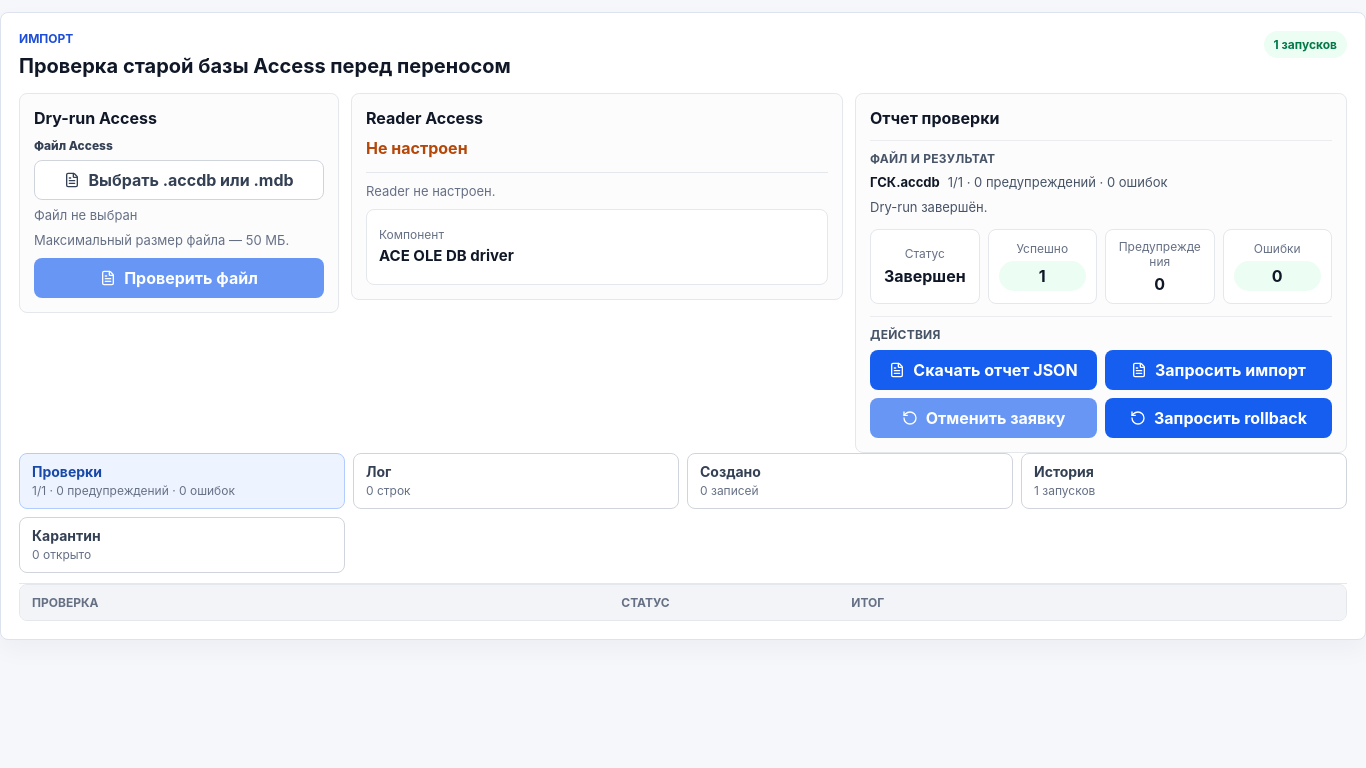
Test case: ImportPanel server failures › shows an apply failure inside the dialog, preserves input and allows retry
Click the button with aria-label "Запросить фактический импорт ГСК.accdb" at (1218, 370), box top-left (1105, 350), bottom-right (1332, 390)
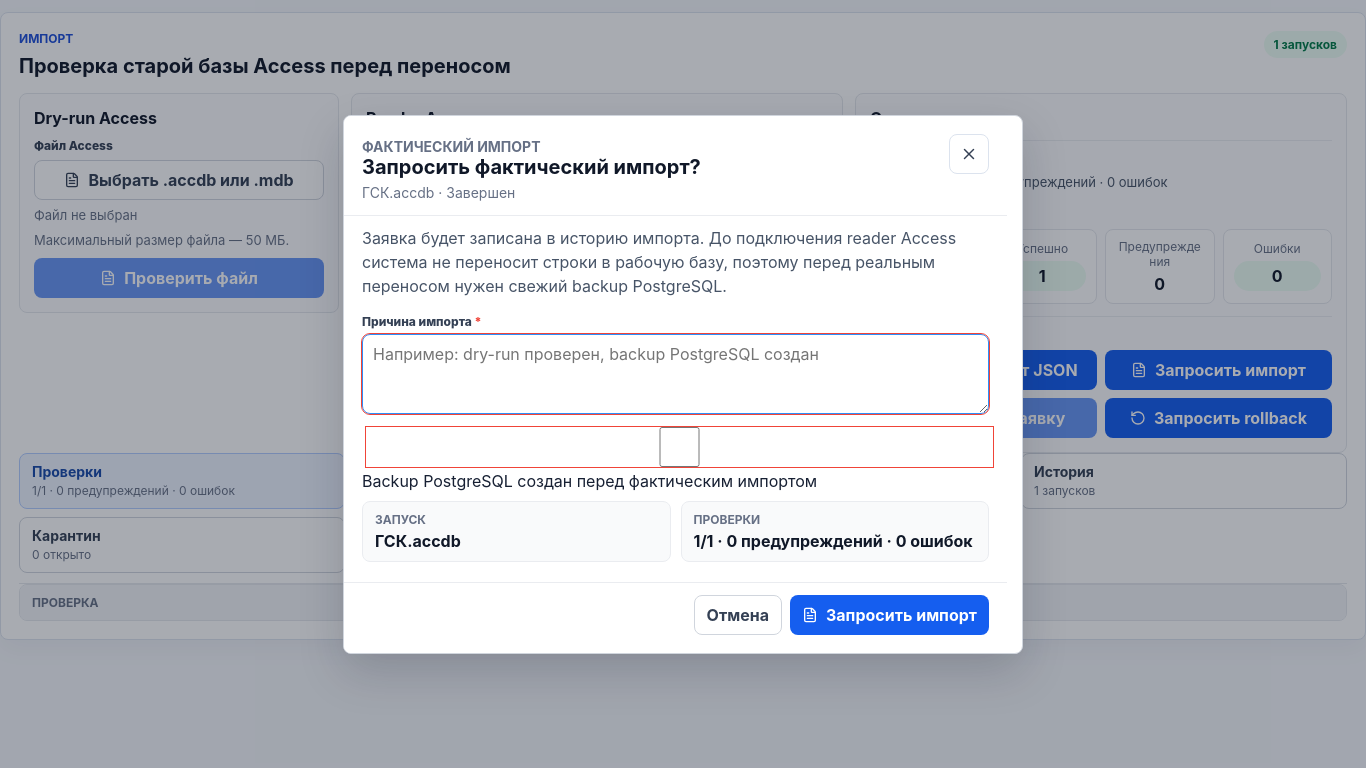
Type "Dry-run проверен, backup создан" into the text box named "Причина фактического импорта" at (676, 374), box top-left (362, 334), bottom-right (989, 414)
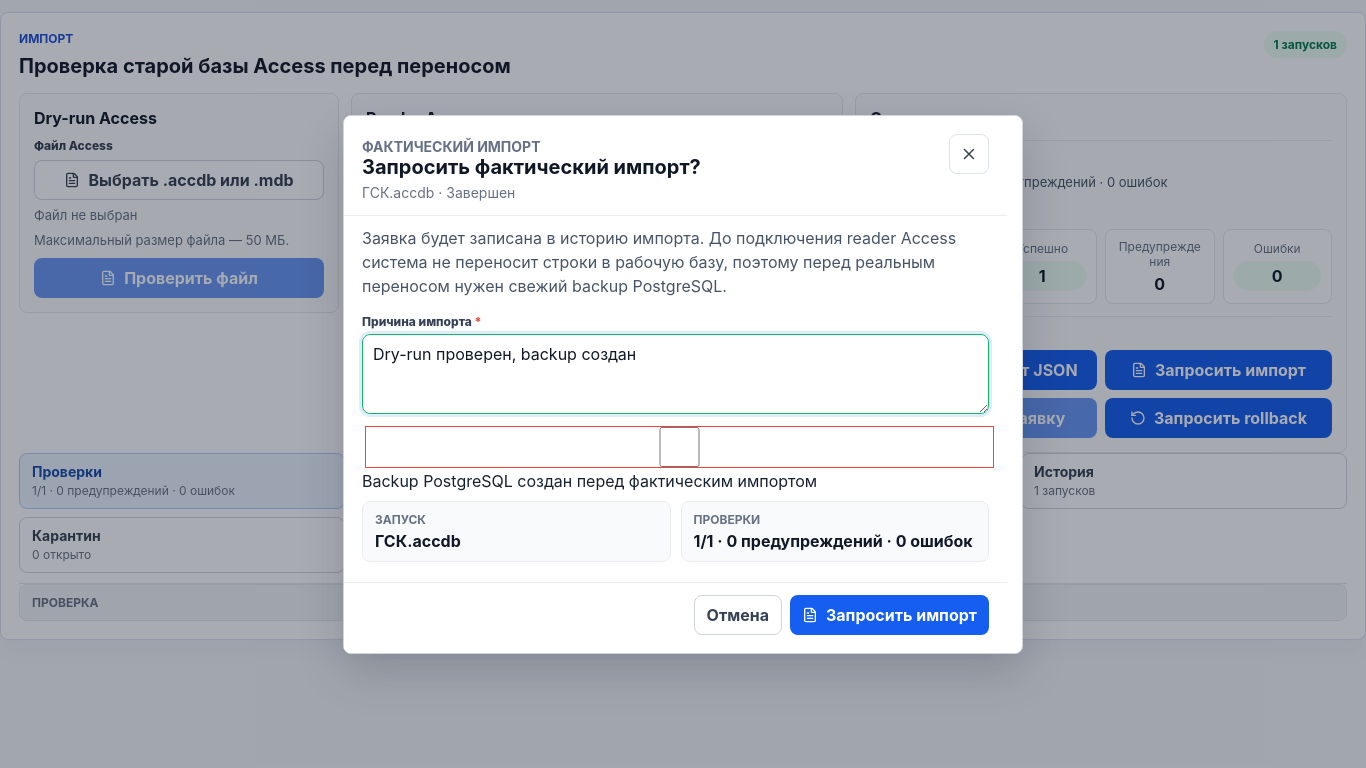
Click the checkbox labelled "Backup PostgreSQL создан перед фактическим импортом" at (680, 446), box top-left (366, 426), bottom-right (993, 466)
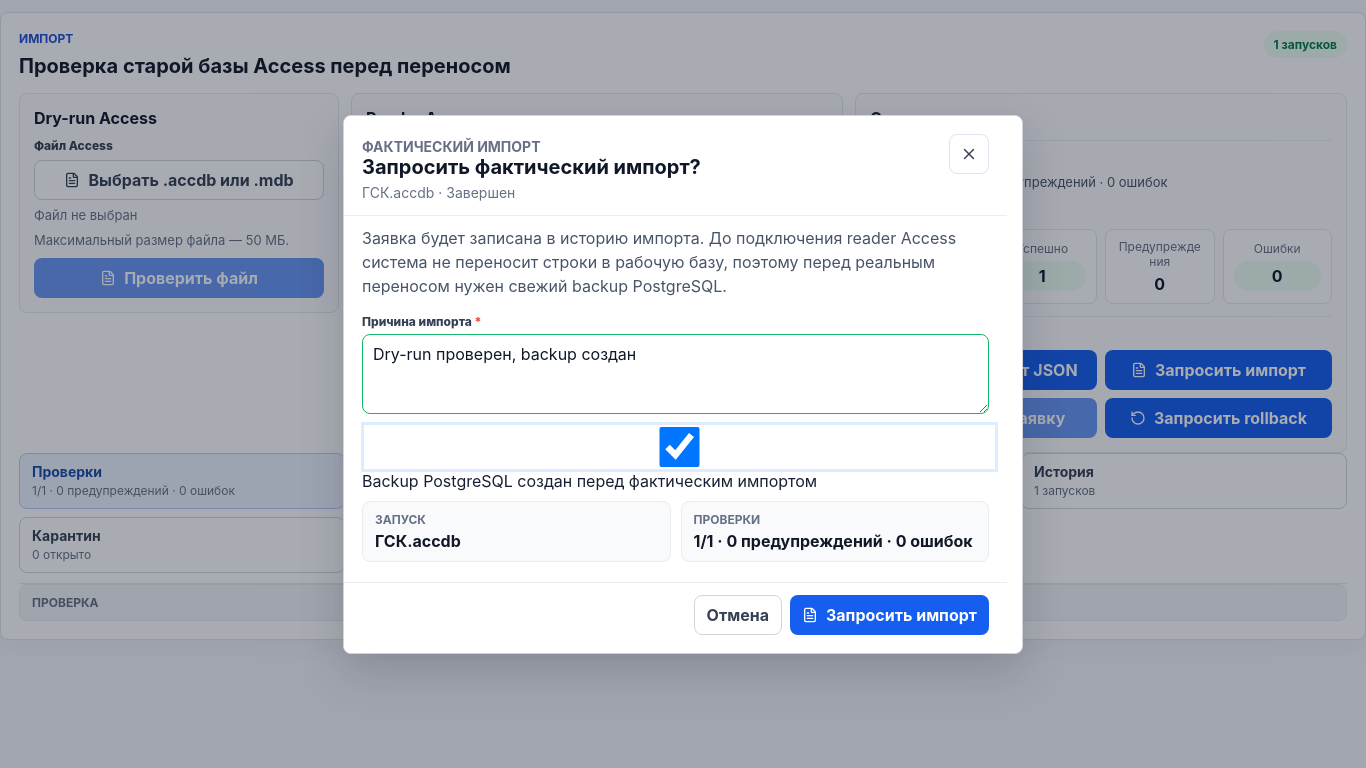
Click the button "Запросить импорт" at (890, 614), box top-left (790, 594), bottom-right (989, 634)
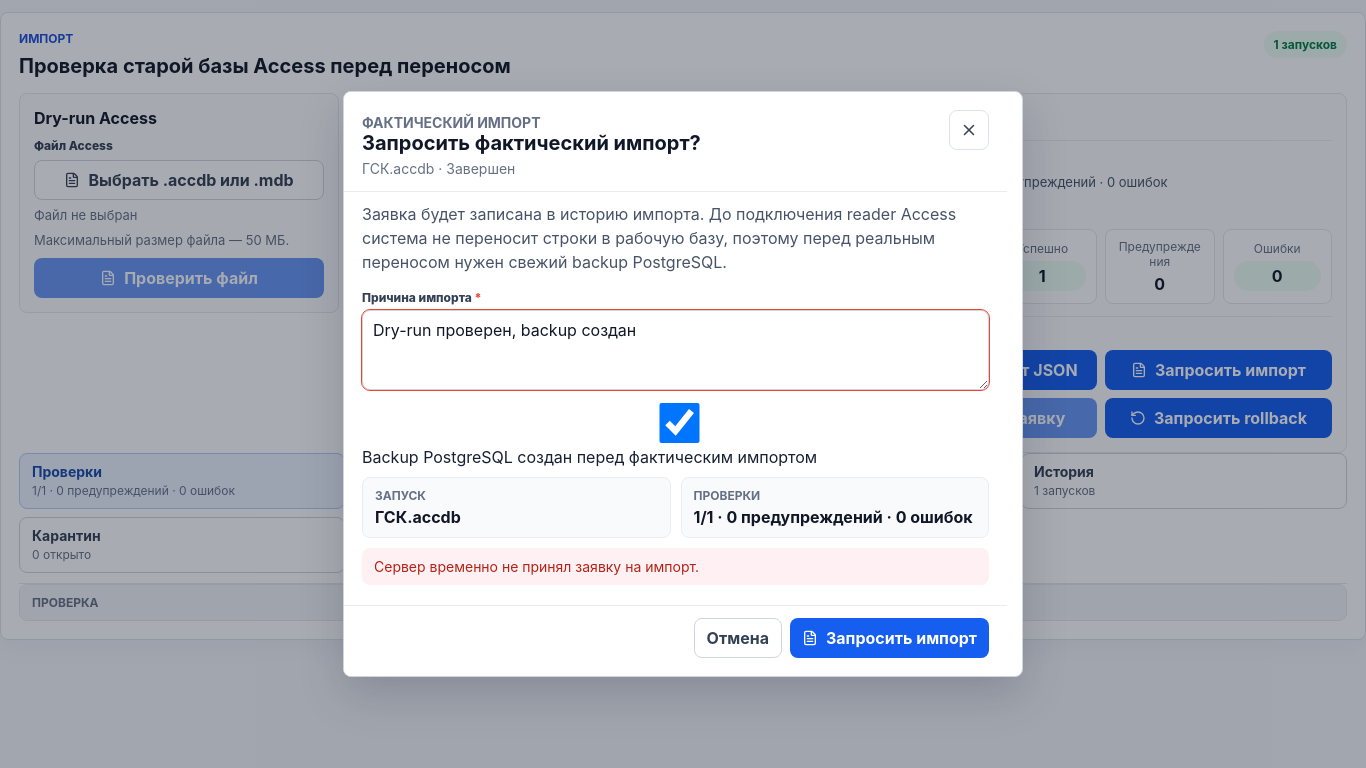
Expected: the checkbox labelled "Backup PostgreSQL создан перед фактическим импортом" is checked, top-left (366, 403), bottom-right (993, 443)
Expected: the message reads "Сервер временно не принял заявку на импорт.", top-left (374, 558), bottom-right (699, 575)
Expected: the text "Сервер временно не принял заявку на импорт." is shown once, top-left (362, 548), bottom-right (989, 585)
Click the button "Запросить импорт" at (890, 638), box top-left (790, 618), bottom-right (989, 658)
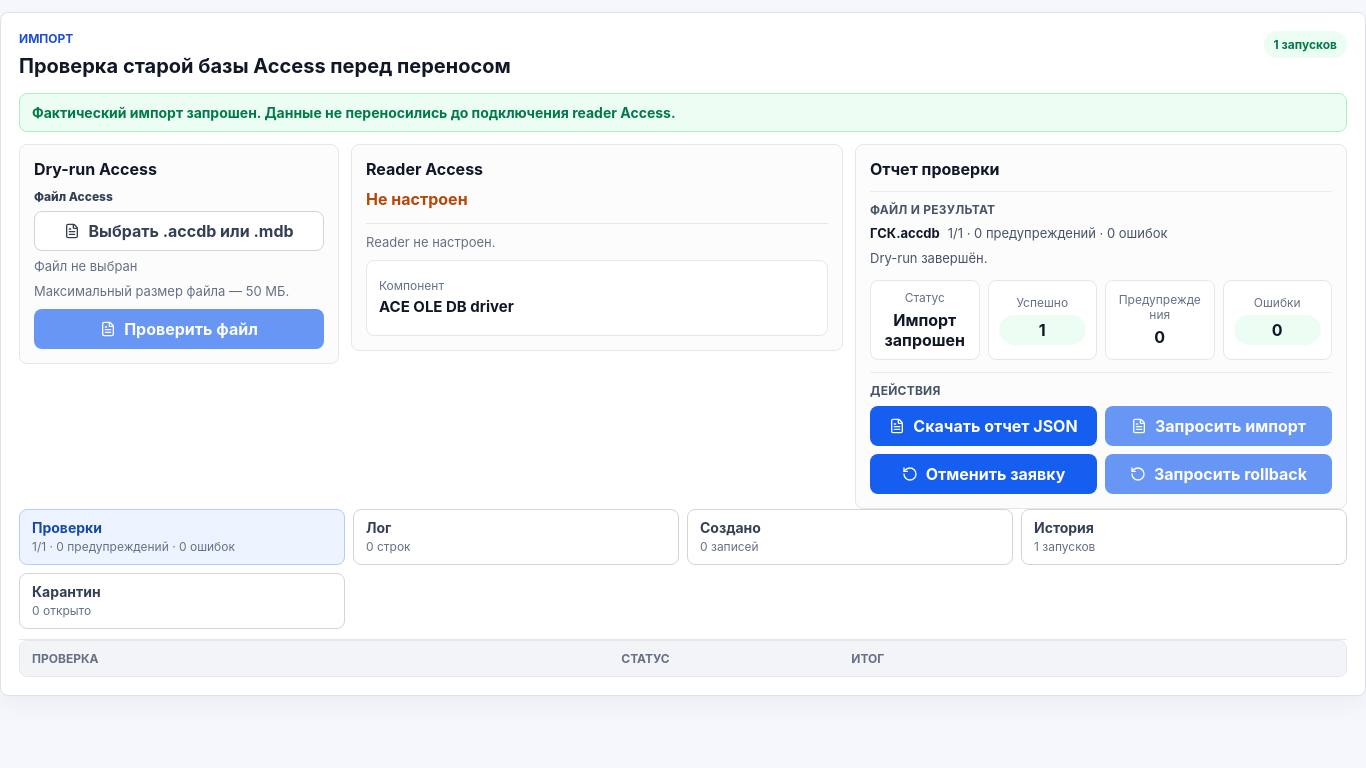
Expected: the heading "Запросить фактический импорт?" is gone
